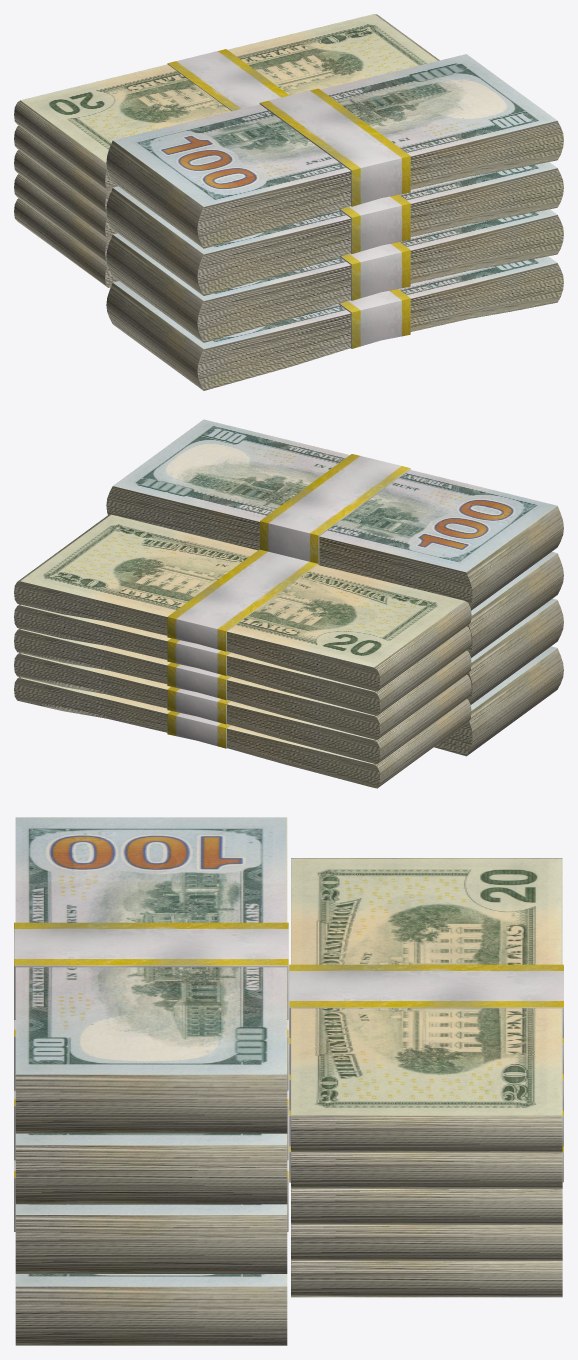
3 renders of one model, top to bottom at view 1: azimuth 30°, elevation 25°; view 2: azimuth 150°, elevation 25°; view 3: azimuth 270°, elevation 25°, orthographic. The views are drawn at different scales.
Visible parts, largest first — view 1: stacks of money.004, stacks of money.001, stacks of money, stacks of money.003, stacks of money.002; view 2: stacks of money.001, stacks of money.004, stacks of money, stacks of money.003, stacks of money.002; view 3: stacks of money.001, stacks of money.004, stacks of money, stacks of money.003, stacks of money.002.
Part boxes in pixels (x1,y1,x2,y2): stacks of money.004: (106,54,563,248); stacks of money.001: (14,14,439,287); stacks of money: (106,256,563,390); stacks of money.003: (106,162,563,295); stacks of money.002: (106,209,563,342); stacks of money.001: (14,514,471,788); stacks of money.004: (106,419,563,610); stacks of money: (434,646,563,756); stacks of money.003: (467,552,563,657); stacks of money.002: (467,598,563,704); stacks of money.001: (289,858,563,1297); stacks of money.004: (14,817,288,1133); stacks of money: (14,1160,288,1345); stacks of money.003: (14,1020,288,1204); stacks of money.002: (14,1090,288,1273).
Size of the model in its own units: 2.64 by 1.28 by 2.3.
2 materials, 2 textured.
